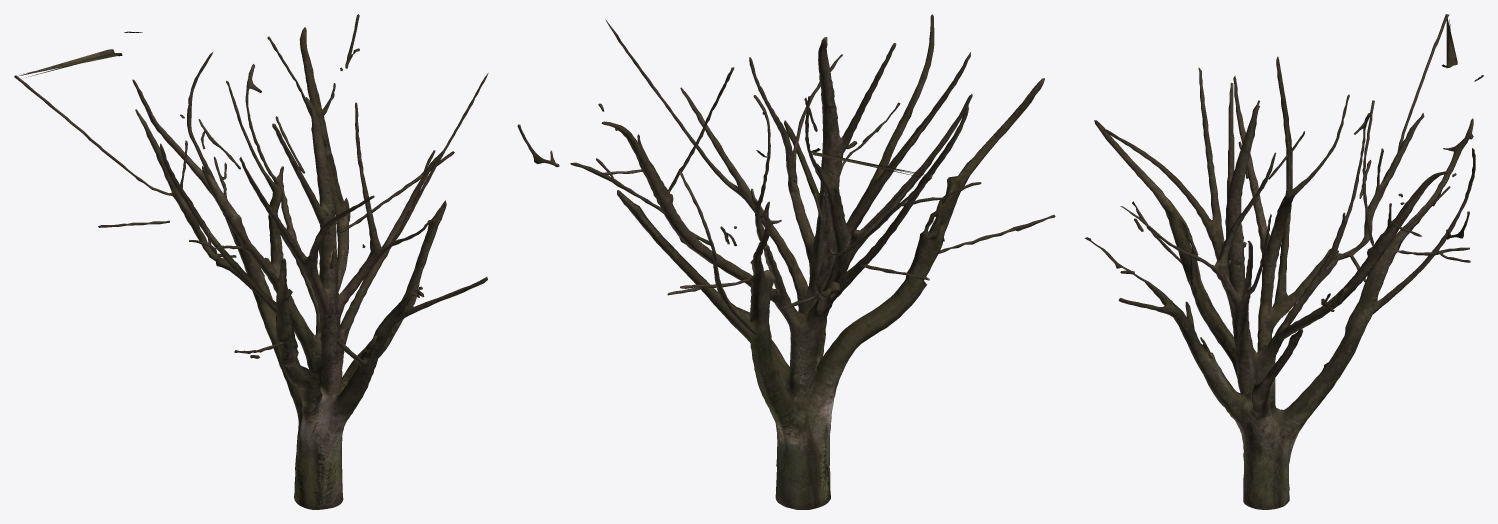
File: bare_tree.glb
The picture shows the model from 3 angles, left to right: view 1: azimuth 30°, elevation 25°; view 2: azimuth 150°, elevation 25°; view 3: azimuth 270°, elevation 25°; orthographic projection. The views are drawn at different scales.
Bounding box in the file's own units: 1.84 × 1.94 × 1.74.
1 material, 1 textured.
